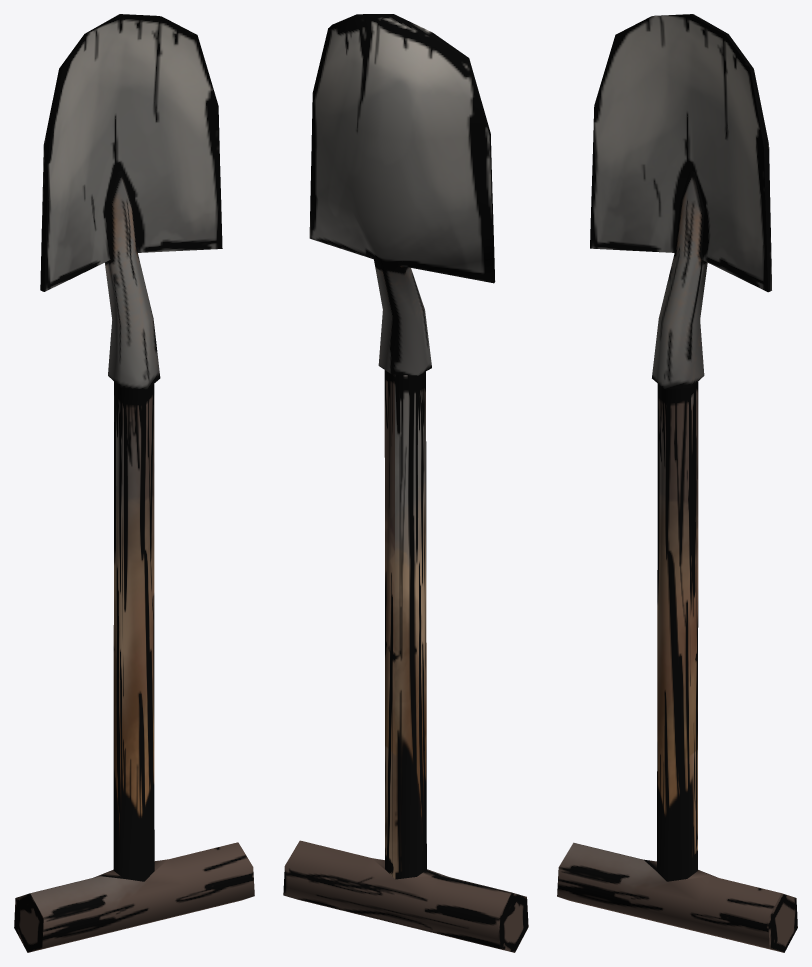
File: shovel.fbx
3 renders of one model, left to right at view 1: azimuth 30°, elevation 25°; view 2: azimuth 150°, elevation 25°; view 3: azimuth 330°, elevation 25°, orthographic.
Parts seen in each view (by area): view 1: Shovel; view 2: Shovel; view 3: Shovel.
Boxes of the visible parts, <box> form: Shovel: <box>14,14,254,952</box>; Shovel: <box>283,14,528,952</box>; Shovel: <box>557,14,797,952</box>.
Bounding box in the file's own units: 2891 × 11670 × 919.
